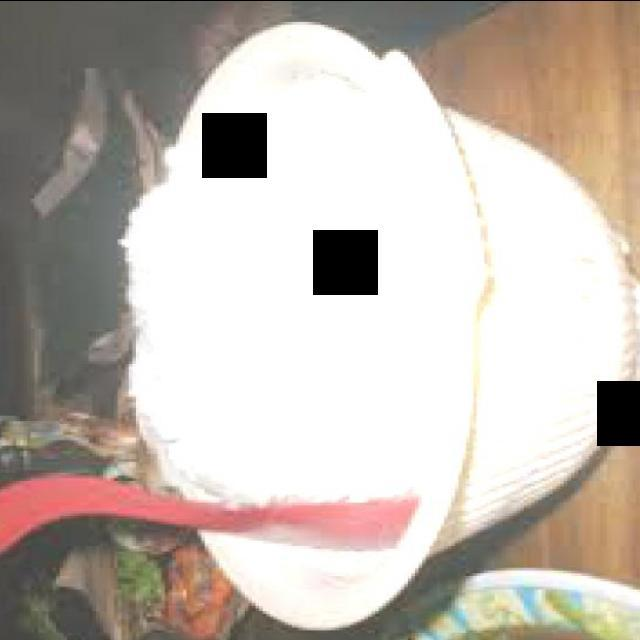rice: (123, 100, 447, 507)
